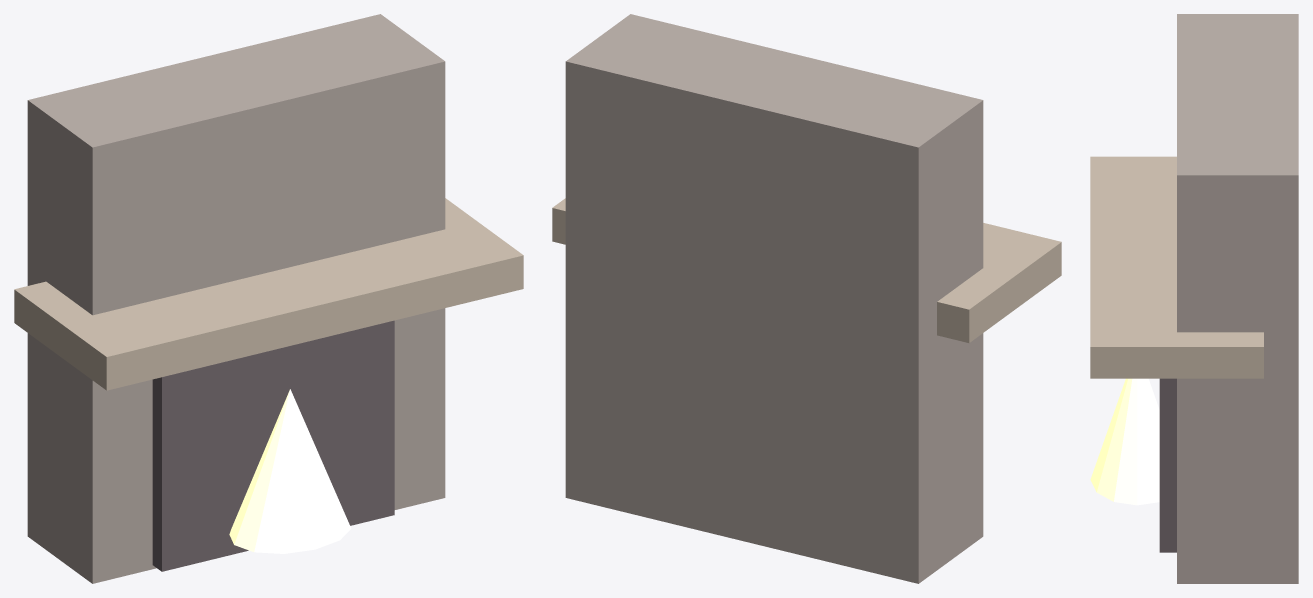
File: fireplace.glb
3 renders of one model, left to right at view 1: azimuth 30°, elevation 25°; view 2: azimuth 150°, elevation 25°; view 3: azimuth 270°, elevation 25°, orthographic. The views are drawn at different scales.
Parts seen in each view (by area): view 1: chimney, mantel, black opening, flame; view 2: chimney, mantel; view 3: chimney, mantel, flame, black opening.
Part boxes in pixels (x1=…): chimney: x1=27, y1=14, x2=445, y2=583; mantel: x1=14, y1=198, x2=523, y2=390; black opening: x1=152, y1=320, x2=394, y2=571; flame: x1=229, y1=389, x2=351, y2=553; chimney: x1=565, y1=14, x2=983, y2=583; mantel: x1=552, y1=198, x2=1061, y2=342; chimney: x1=1177, y1=14, x2=1298, y2=583; mantel: x1=1090, y1=156, x2=1263, y2=378; flame: x1=1090, y1=378, x2=1159, y2=505; black opening: x1=1159, y1=378, x2=1176, y2=552.
Bounding box in the file's own units: 2.6 × 2.6 × 1.2.
